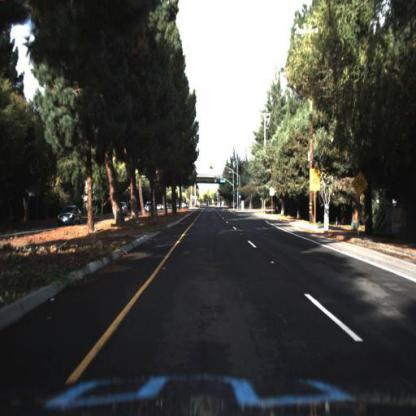car: (57, 204, 84, 228), (56, 207, 83, 226), (117, 198, 131, 218)
